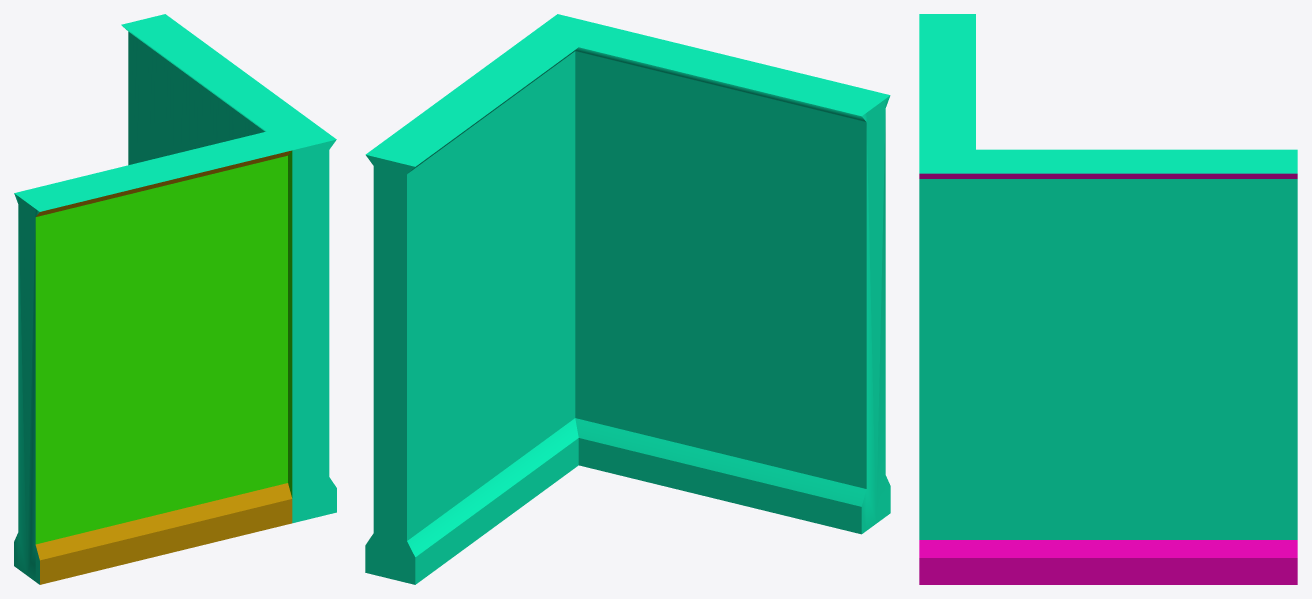
3 views of the same model, side by side, from view 1: azimuth 30°, elevation 25°; view 2: azimuth 150°, elevation 25°; view 3: azimuth 270°, elevation 25° (orthographic). The views are drawn at different scales.
Visible parts, largest first — view 1: ModularWallInnerFlat001; view 2: ModularWallInnerFlat001; view 3: ModularWallInnerFlat001.
Part boxes in pixels (x1=…): ModularWallInnerFlat001: x1=14, y1=14, x2=336, y2=584; ModularWallInnerFlat001: x1=365, y1=14, x2=890, y2=584; ModularWallInnerFlat001: x1=919, y1=14, x2=1297, y2=584.
Size of the model in its own units: 100 by 120 by 100.
